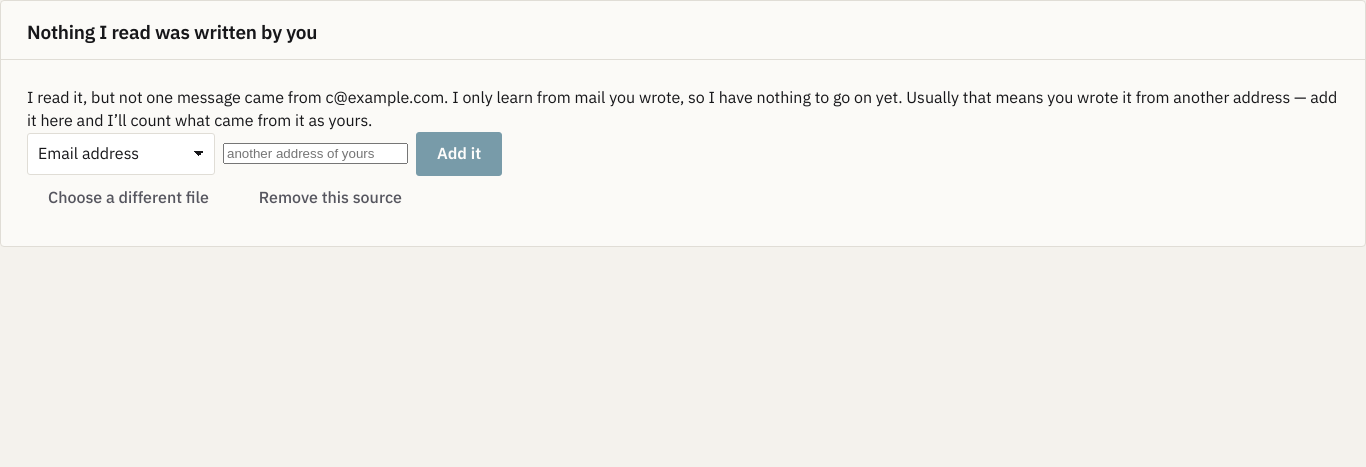
when nothing read was the user's, adding the address is the fix › asks whether the person it is filed under is the user, and moves it only on a yes
Expected: the heading "Nothing I read was written by you" is shown, [27,19,317,46]
Type "c@work.example" into the field labelled "another address of yours" at {"x": 316, "y": 154}, box [223,143,408,164]
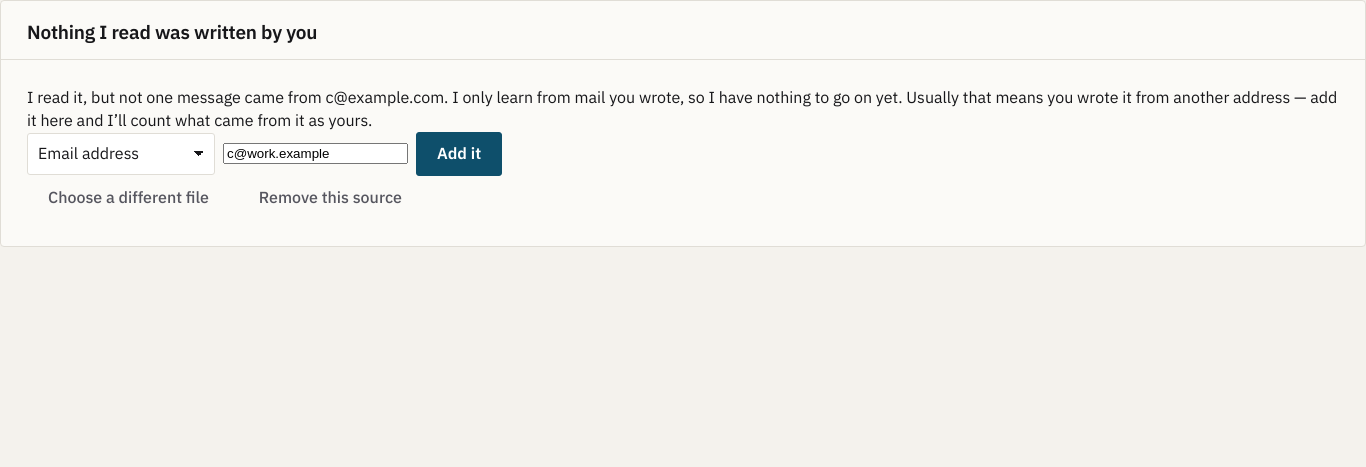
Click the button "Add it" at {"x": 459, "y": 154}, box [416,132,502,176]
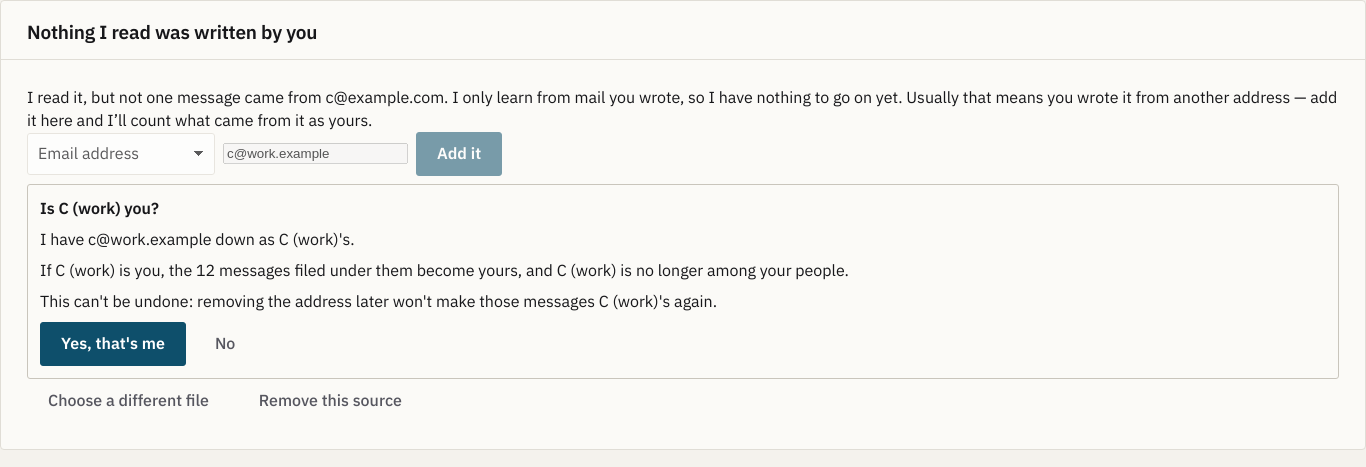
Expected: the element "Is C (work) you?" shows "If C (work) is you, the 12 messages filed under them become yours", [40,260,849,280]
Click the button "Yes, that's me" at {"x": 113, "y": 344}, box [40,322,186,366]
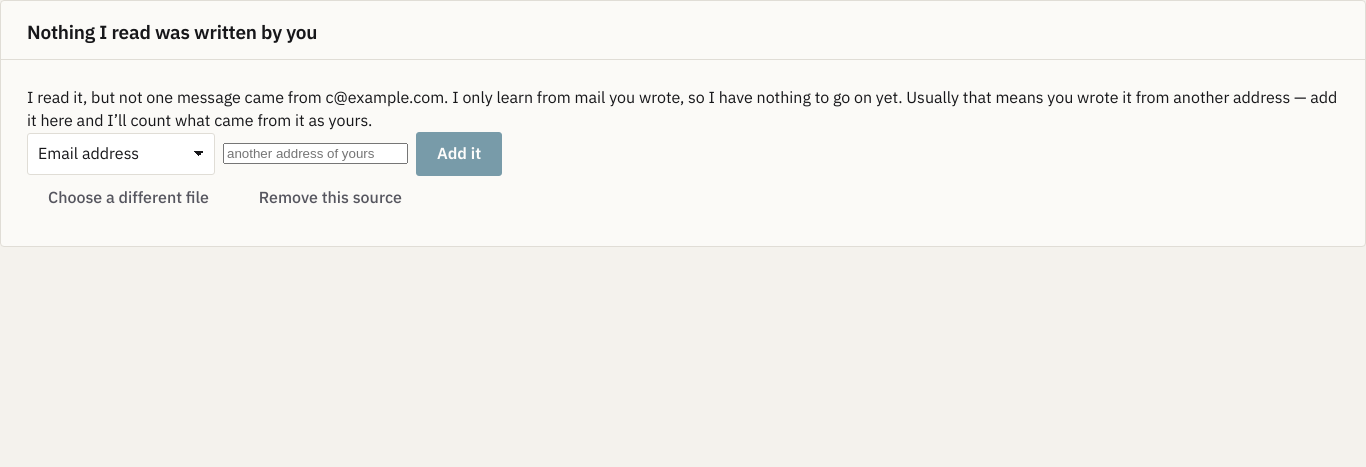
Expected: the field labelled "another address of yours" is empty, [223,143,408,164]
Expected: the text "Is C (work) you?" is gone
